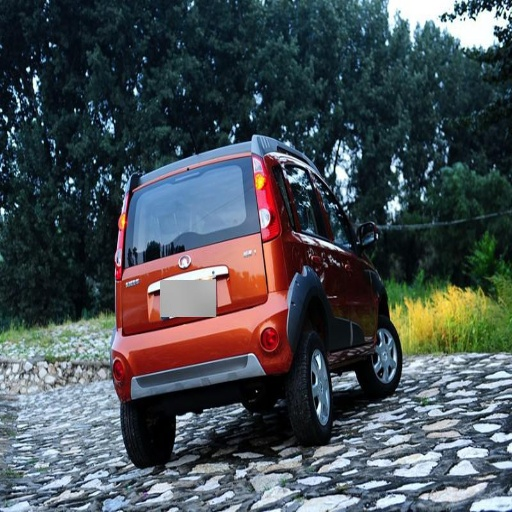back_bumper: (113, 335, 248, 392), (261, 288, 293, 367)
back_right_door: (321, 239, 349, 351)
trunk: (126, 228, 280, 358)
